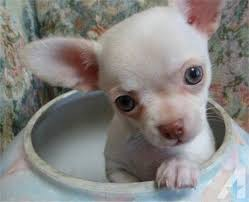chihuahua: (8, 1, 233, 187)
